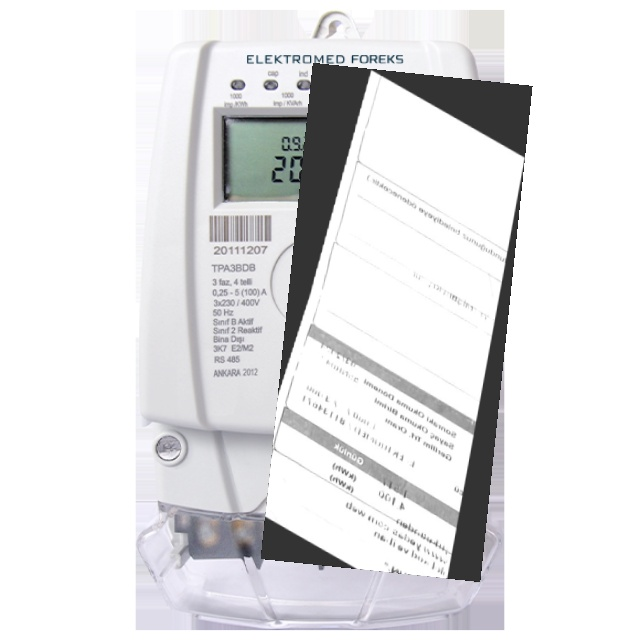electricity-bill: (260, 63, 532, 581)
